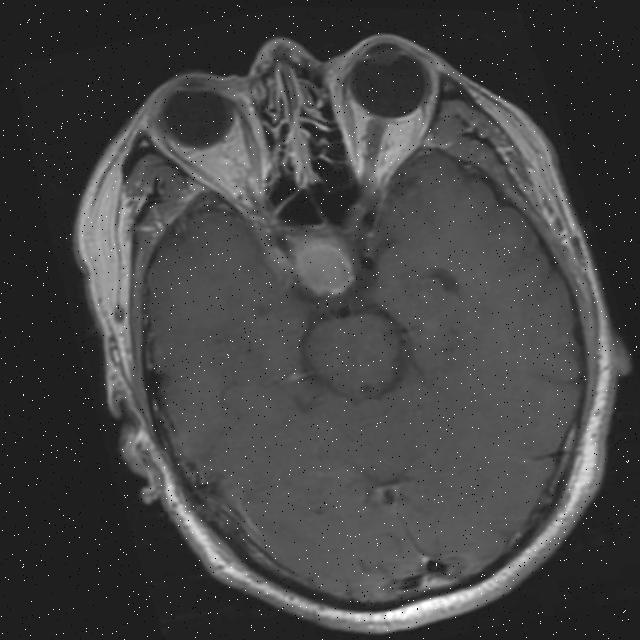Pituitary: (287, 231, 359, 302)
